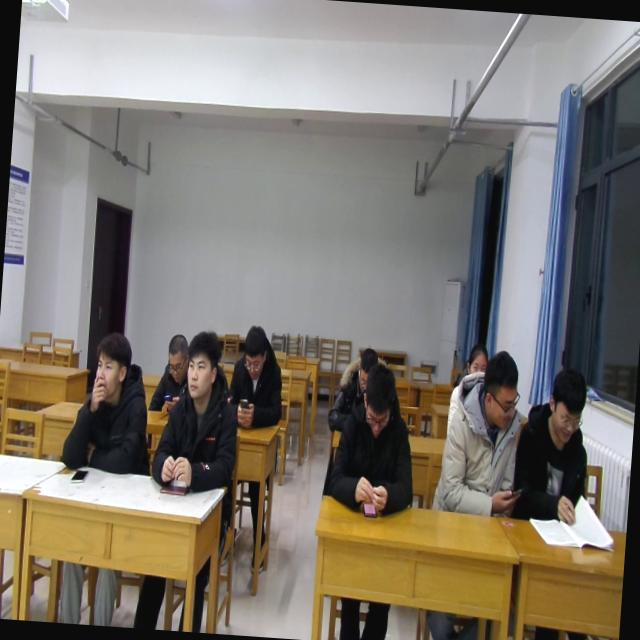bow: (223, 322, 290, 434), (324, 343, 384, 437)
down: (541, 358, 591, 450), (359, 359, 399, 442), (238, 318, 272, 382), (351, 341, 379, 394), (164, 325, 188, 383)
lookup: (178, 322, 224, 404), (90, 326, 136, 404), (462, 338, 490, 380)
sit: (432, 342, 525, 520), (148, 326, 246, 494), (57, 327, 158, 480), (324, 360, 422, 517), (508, 363, 596, 524), (146, 328, 194, 414)
